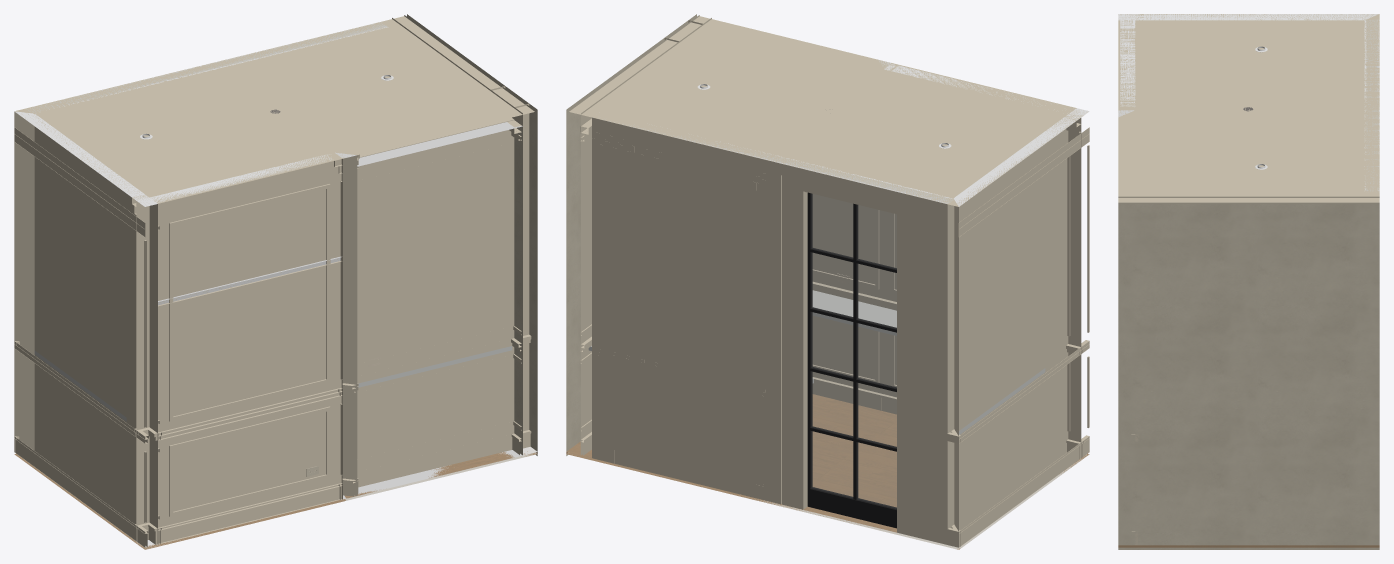
File: pantry-ae39cb445f68.glb
The picture shows the model from 3 angles, left to right: view 1: azimuth 30°, elevation 25°; view 2: azimuth 150°, elevation 25°; view 3: azimuth 270°, elevation 25°; orthographic projection.
Visible parts, largest first — view 1: pantry-e1ae12ec9cba52a2, pantry-e64cabe238f3e83a, pantry-2575515a05775d9e, pantry-5b6bbac285e58726, pantry-23704d6ebb398f63, pantry-6a1144f4e43410bb, pantry-e462de76b61e99cf, pantry-1b1dac62f3b0f38e, pantry-ab25ce0be192bde7, pantry-93faa3d32bde4dc4, pantry-2c29ddcb8551cb02, pantry-e54d813e60c9e7c4 (+15 smaller); view 2: pantry-bd4023b7987ad736, pantry-2575515a05775d9e, pantry-5b6bbac285e58726, pantry-391f310680cc5508, pantry-e64cabe238f3e83a, pantry-af97eba351c411ae, pantry-3b0077416469e01b, pantry-e1ae12ec9cba52a2, pantry-2c29ddcb8551cb02, pantry-e54d813e60c9e7c4, pantry-1fae004be5e077cf, pantry-af1041973fdfbb5e (+12 smaller); view 3: pantry-af97eba351c411ae, pantry-2575515a05775d9e, pantry-ab25ce0be192bde7, pantry-e462de76b61e99cf, pantry-4b4a529ae091588b, pantry-5b6bbac285e58726, pantry-e1ae12ec9cba52a2, pantry-ecf72e0057751250, pantry-710b1f455b9f0804, pantry-bd4023b7987ad736, pantry-3b0077416469e01b, pantry-76fec1e12e3db62a.
Boxes of the visible parts, left/top/right/bottom form: pantry-e1ae12ec9cba52a2: left=149, top=154, right=341, bottom=543; pantry-e64cabe238f3e83a: left=342, top=122, right=522, bottom=495; pantry-2575515a05775d9e: left=15, top=15, right=534, bottom=203; pantry-5b6bbac285e58726: left=14, top=111, right=149, bottom=540; pantry-23704d6ebb398f63: left=169, top=184, right=330, bottom=421; pantry-6a1144f4e43410bb: left=136, top=197, right=157, bottom=546; pantry-e462de76b61e99cf: left=514, top=104, right=537, bottom=455; pantry-1b1dac62f3b0f38e: left=135, top=434, right=512, bottom=524; pantry-ab25ce0be192bde7: left=490, top=86, right=529, bottom=431; pantry-93faa3d32bde4dc4: left=169, top=406, right=330, bottom=516; pantry-2c29ddcb8551cb02: left=14, top=437, right=145, bottom=547; pantry-e54d813e60c9e7c4: left=14, top=127, right=145, bottom=236; pantry-bd4023b7987ad736: left=592, top=117, right=954, bottom=544; pantry-2575515a05775d9e: left=569, top=15, right=1087, bottom=206; pantry-5b6bbac285e58726: left=953, top=114, right=1081, bottom=547; pantry-391f310680cc5508: left=811, top=194, right=896, bottom=508; pantry-e64cabe238f3e83a: left=812, top=194, right=883, bottom=393; pantry-af97eba351c411ae: left=566, top=37, right=679, bottom=455; pantry-3b0077416469e01b: left=566, top=394, right=1089, bottom=549; pantry-e1ae12ec9cba52a2: left=883, top=64, right=1067, bottom=397; pantry-2c29ddcb8551cb02: left=959, top=437, right=1089, bottom=547; pantry-e54d813e60c9e7c4: left=958, top=127, right=1089, bottom=236; pantry-1fae004be5e077cf: left=810, top=487, right=896, bottom=528; pantry-af1041973fdfbb5e: left=807, top=192, right=812, bottom=506; pantry-af97eba351c411ae: left=1183, top=196, right=1379, bottom=545; pantry-2575515a05775d9e: left=1118, top=14, right=1379, bottom=203; pantry-ab25ce0be192bde7: left=1135, top=196, right=1182, bottom=545; pantry-e462de76b61e99cf: left=1118, top=196, right=1135, bottom=545; pantry-4b4a529ae091588b: left=1355, top=20, right=1364, bottom=192; pantry-5b6bbac285e58726: left=1135, top=14, right=1378, bottom=20; pantry-e1ae12ec9cba52a2: left=1120, top=20, right=1135, bottom=106; pantry-ecf72e0057751250: left=1368, top=19, right=1376, bottom=192; pantry-710b1f455b9f0804: left=1135, top=14, right=1144, bottom=109; pantry-bd4023b7987ad736: left=1364, top=19, right=1379, bottom=191; pantry-3b0077416469e01b: left=1118, top=545, right=1379, bottom=547; pantry-76fec1e12e3db62a: left=1118, top=547, right=1379, bottom=549.
Bounding box in the file's own units: 3.62 × 3.05 × 2.09.
Materials: 21 (4 with a texture image).
